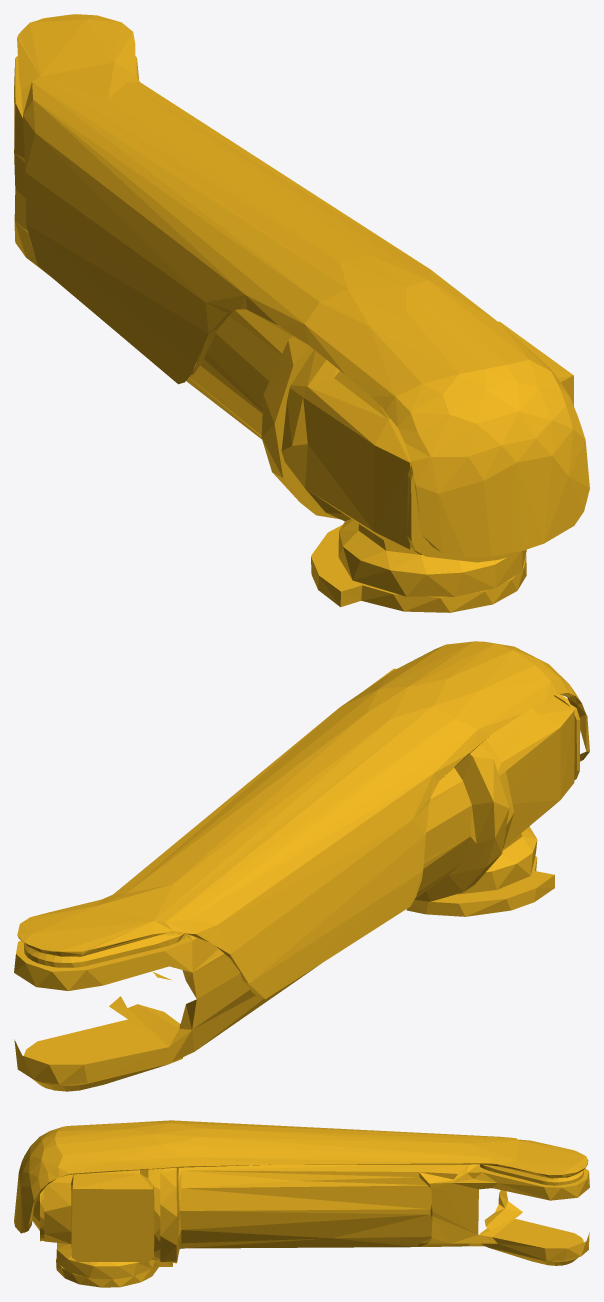
The model's file is uleg.glb.
3 views of the same model, one above another, from view 1: azimuth 30°, elevation 25°; view 2: azimuth 150°, elevation 25°; view 3: azimuth 270°, elevation 25° (orthographic). The views are drawn at different scales.
Parts seen in each view (by area): view 1: l_upper_leg12.020; view 2: l_upper_leg12.020; view 3: l_upper_leg12.020.
Boxes of the visible parts, left/top/right/bottom form: l_upper_leg12.020: left=14, top=14, right=589, bottom=612; l_upper_leg12.020: left=14, top=641, right=589, bottom=1091; l_upper_leg12.020: left=14, top=1120, right=589, bottom=1287.
Bounding box in the file's own units: 0.0987 × 0.1078 × 0.4116.
